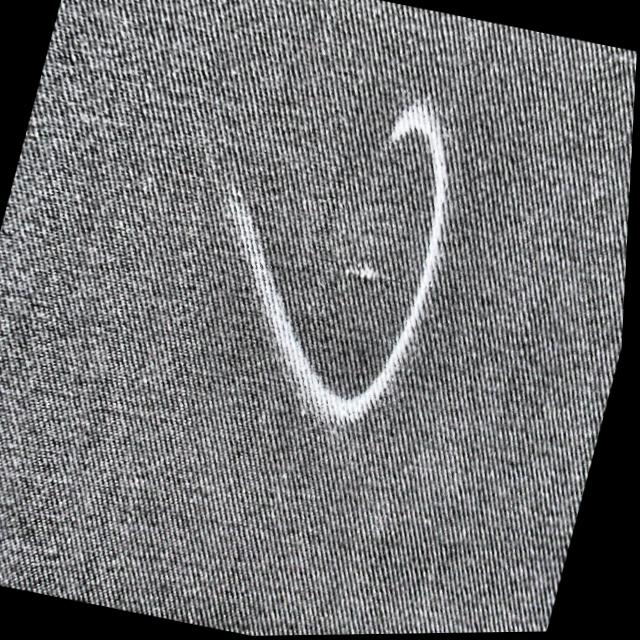Hole: (324, 243, 406, 305)
